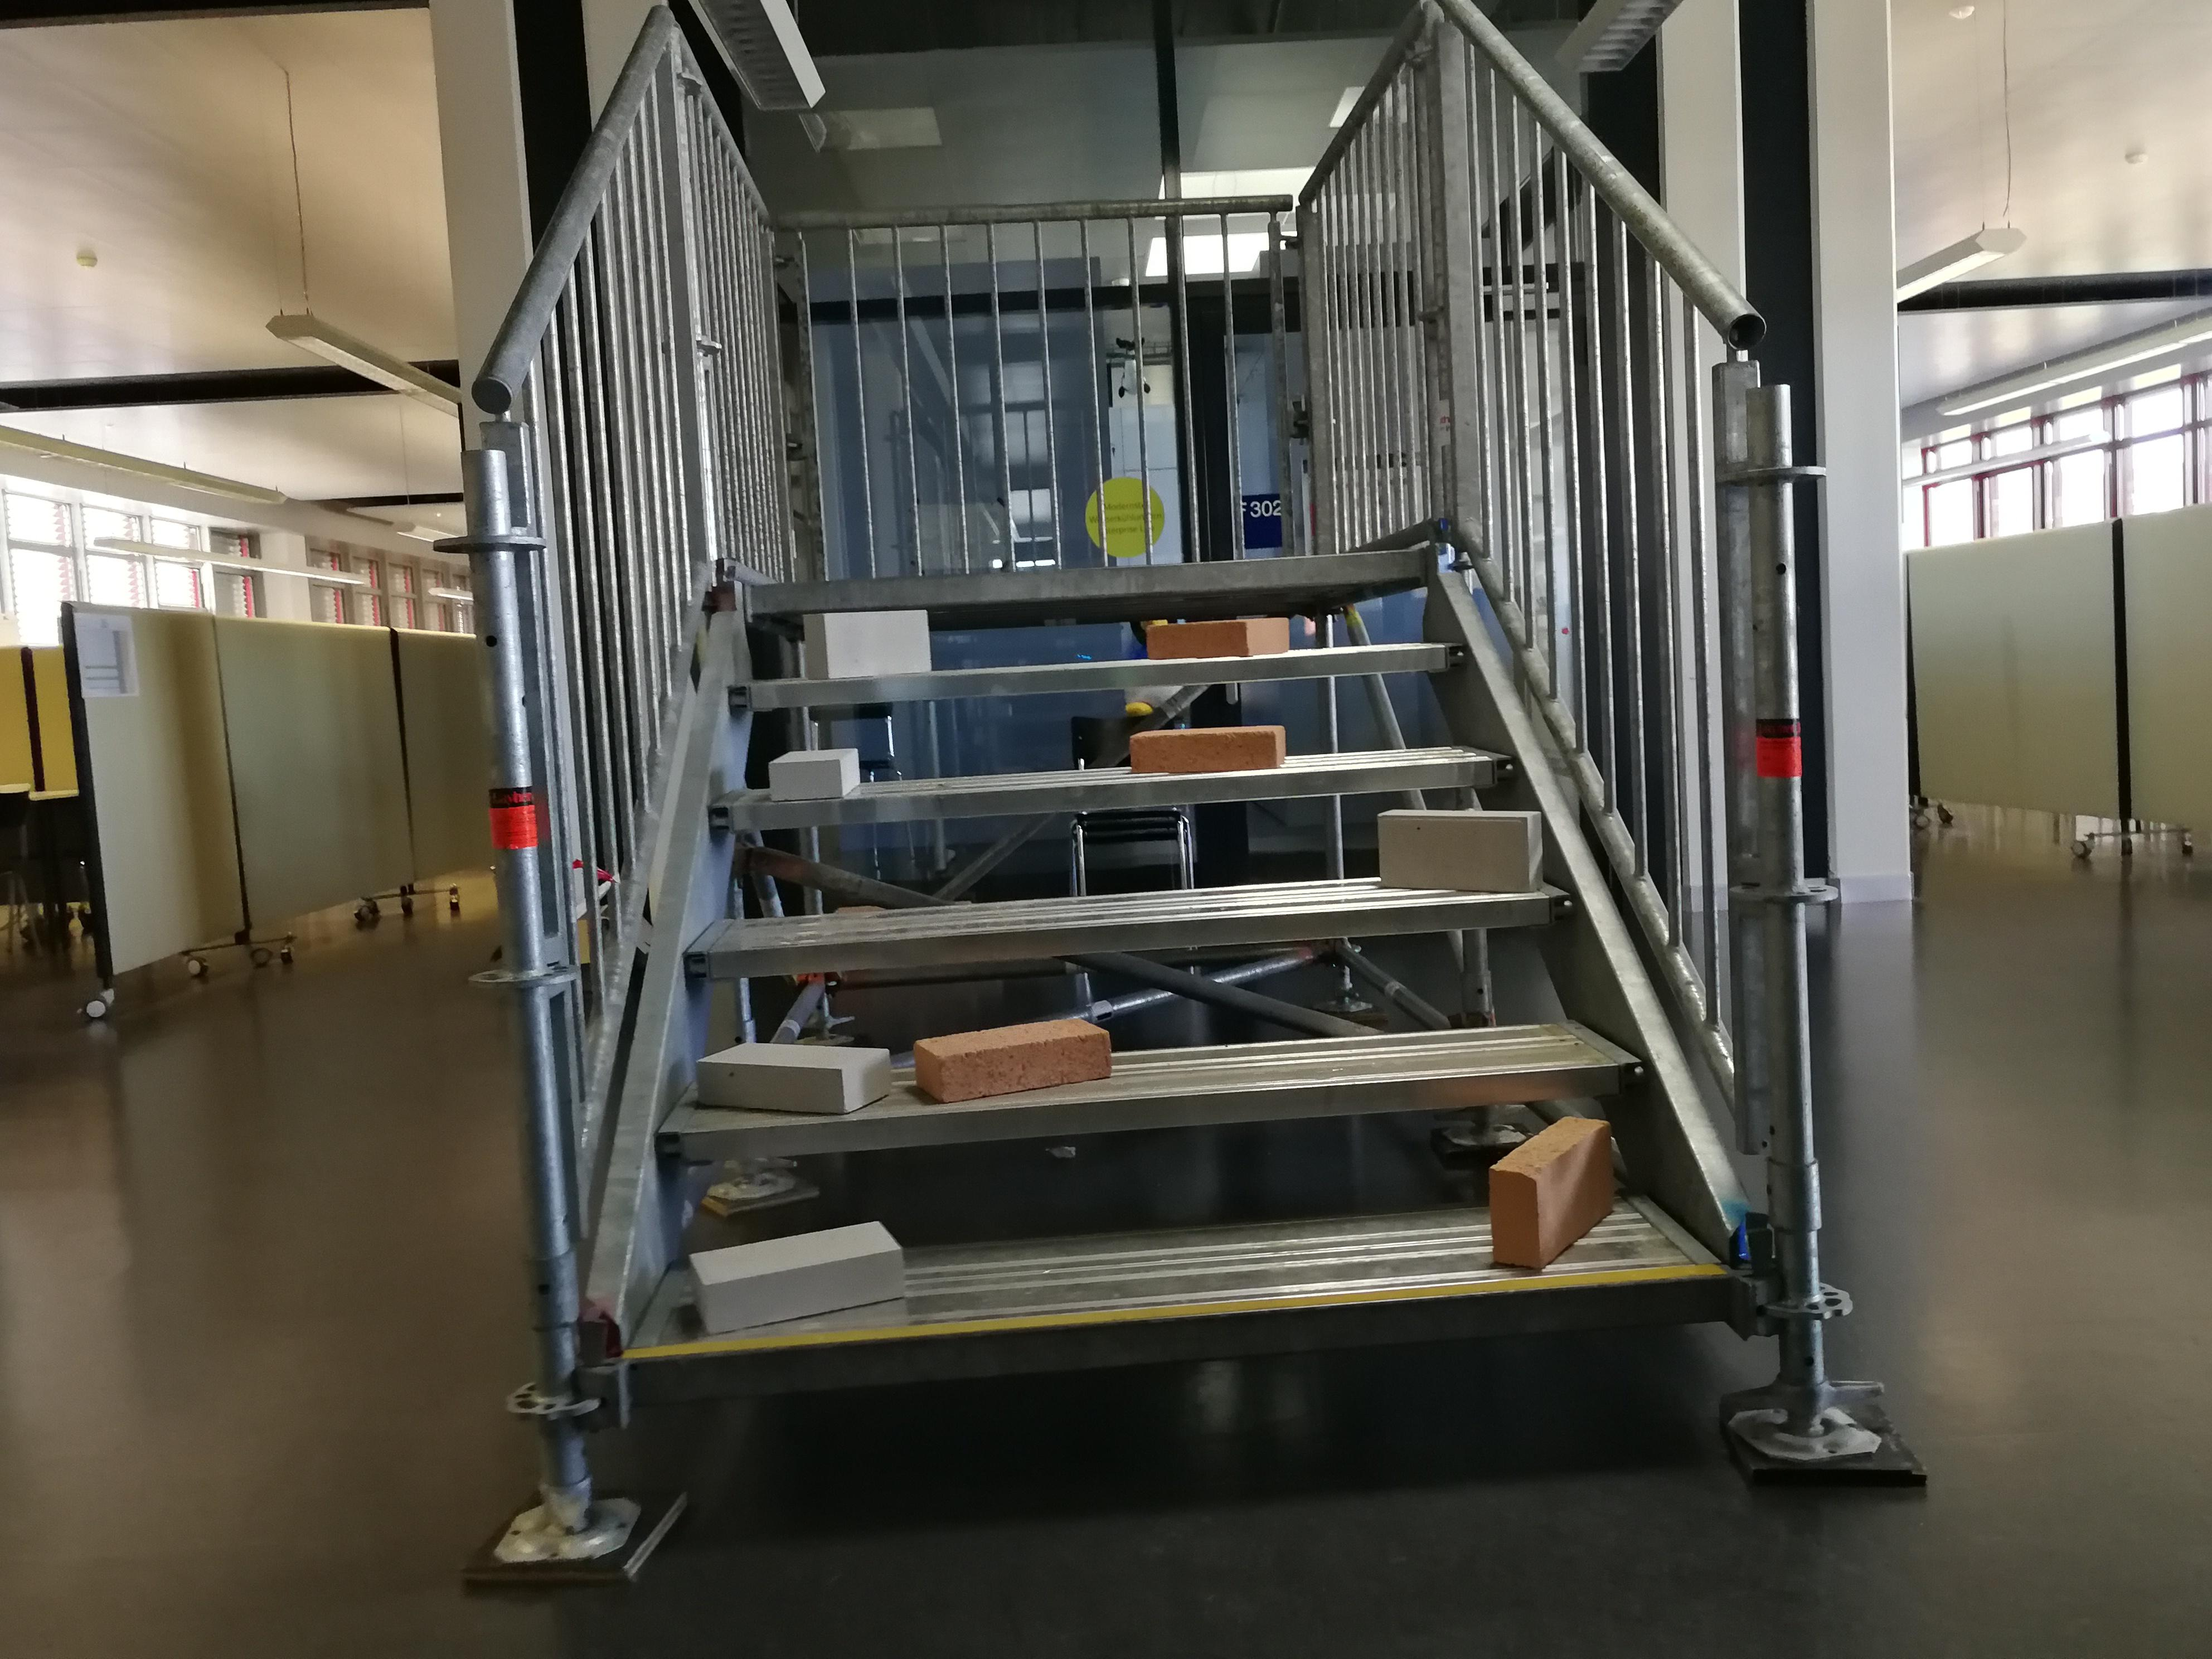brick: (685, 1218, 899, 1335), (1486, 1112, 1611, 1265), (914, 1016, 1111, 1101), (1378, 809, 1543, 892), (700, 1042, 890, 1112), (803, 612, 928, 680), (1132, 723, 1284, 772), (1151, 617, 1289, 657), (766, 749, 859, 795)
edge: (620, 1272, 1730, 1405), (658, 1063, 1646, 1161), (681, 889, 1583, 979), (714, 755, 1519, 831), (733, 641, 1467, 706), (745, 551, 1430, 612)
stairs: (428, 5, 1933, 1582)
steps: (603, 528, 1759, 1425)
